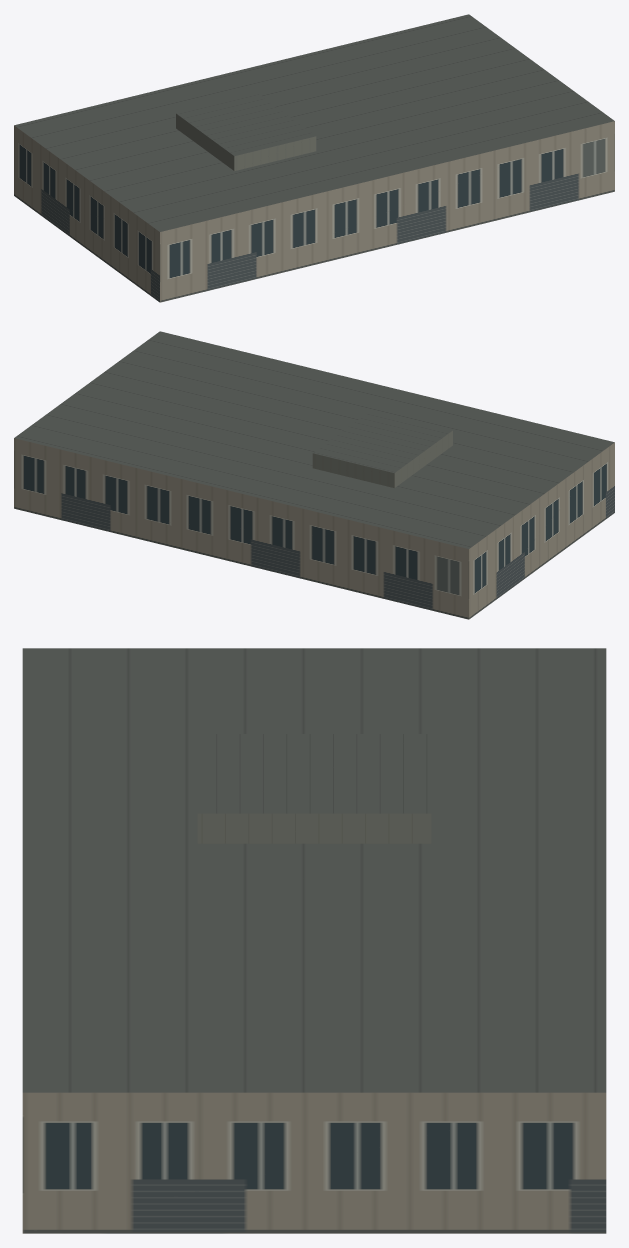
File: kyiv_warehouse_02.obj
3 views of the same model, one above another, from view 1: azimuth 30°, elevation 25°; view 2: azimuth 150°, elevation 25°; view 3: azimuth 270°, elevation 25° (orthographic). The views are drawn at different scales.
Parts seen in each view (by area): view 1: kyiv_warehouse_02; view 2: kyiv_warehouse_02; view 3: kyiv_warehouse_02.
Boxes of the visible parts, x1,y1,x2,y2 form: kyiv_warehouse_02: (14, 14, 614, 302); kyiv_warehouse_02: (14, 331, 614, 619); kyiv_warehouse_02: (22, 648, 606, 1233).
Size of the model in its own units: 54 by 9.7 by 30.
1 material, 1 textured.
